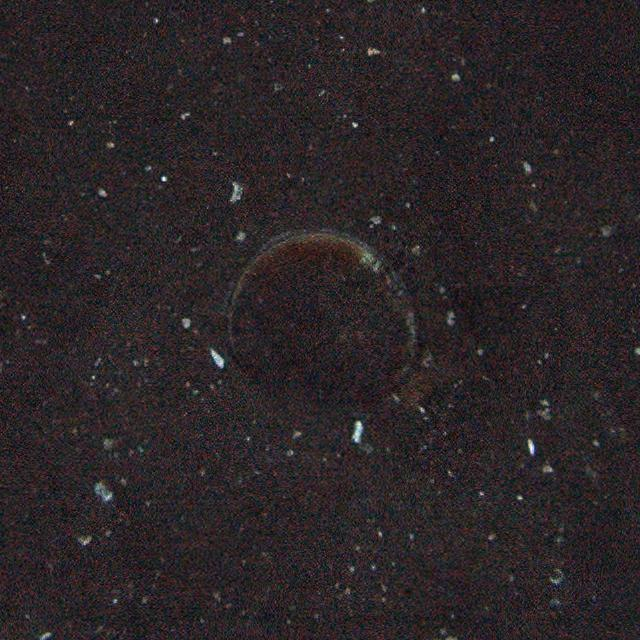scallop: (221, 228, 418, 419)
